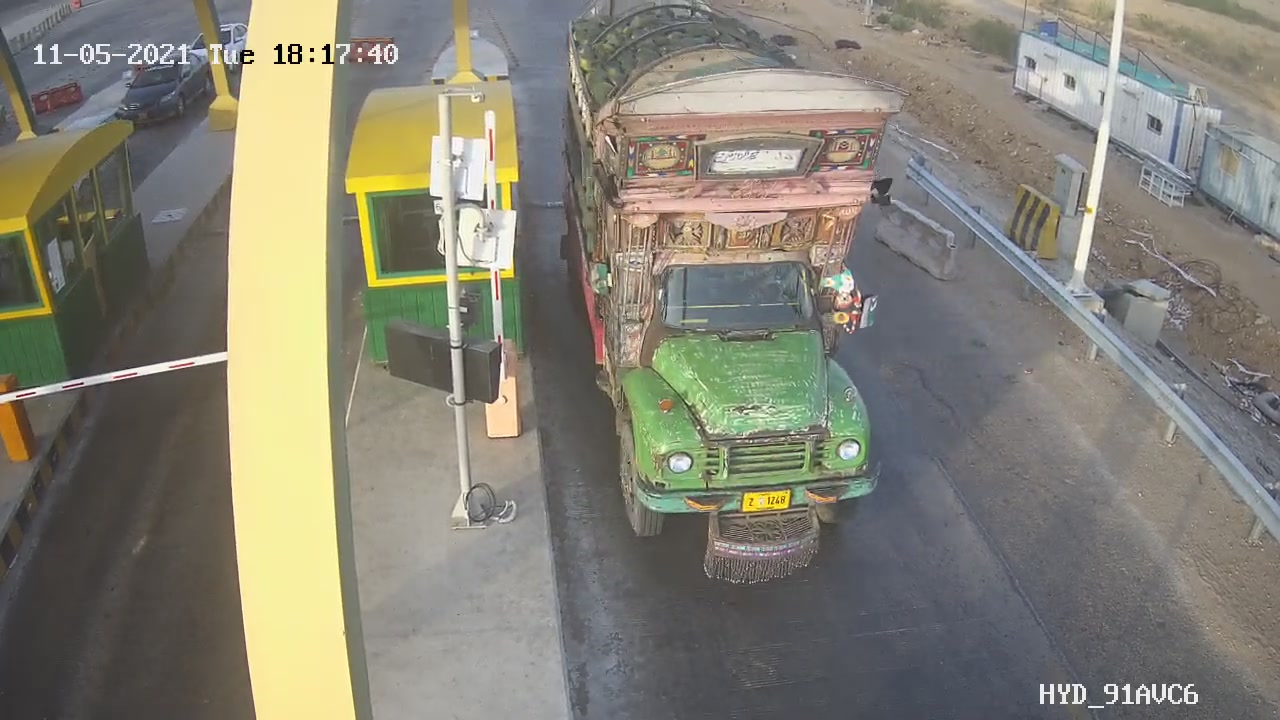F5: (540, 28, 929, 588)
